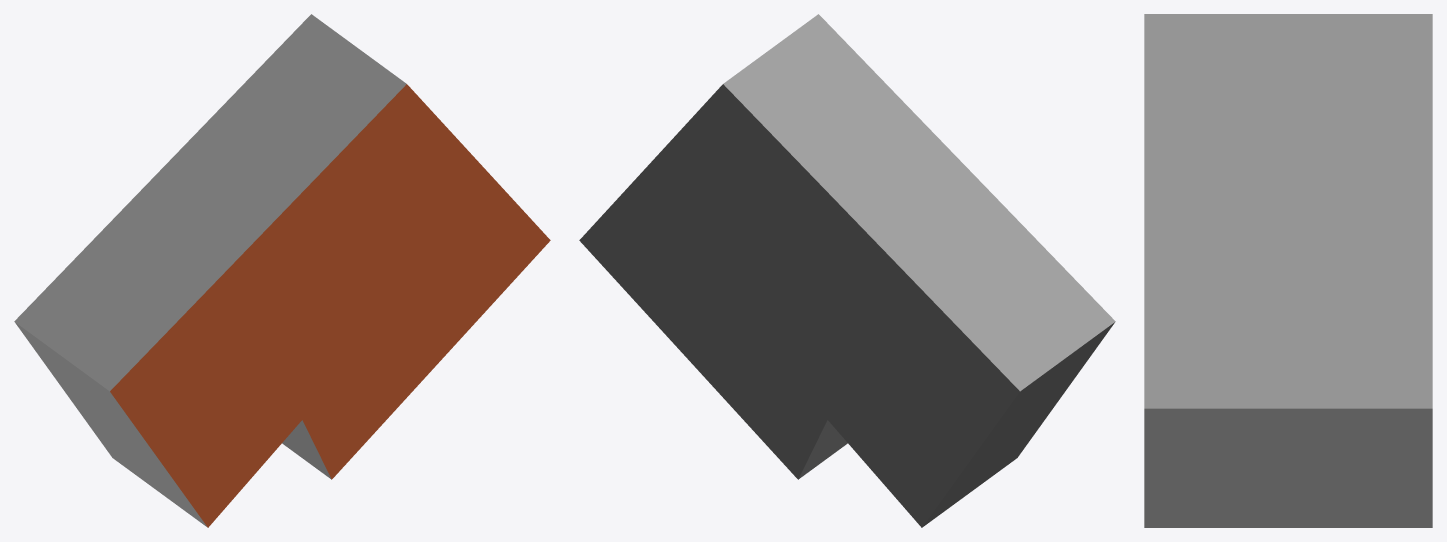
File: construction_2174_assumed_A_Casa_h6m.obj
3 renders of one model, left to right at view 1: azimuth 30°, elevation 25°; view 2: azimuth 150°, elevation 25°; view 3: azimuth 270°, elevation 25°, orthographic. The views are drawn at different scales.
Parts seen in each view (by area): view 1: construction_2174_assumed_A_Casa; view 2: construction_2174_assumed_A_Casa; view 3: construction_2174_assumed_A_Casa.
Boxes of the visible parts, x1,y1,x2,y2 form: construction_2174_assumed_A_Casa: (14, 14, 550, 527); construction_2174_assumed_A_Casa: (579, 14, 1115, 527); construction_2174_assumed_A_Casa: (1144, 14, 1432, 527).
Size of the model in its own units: 15.98 by 13.69 by 6.
